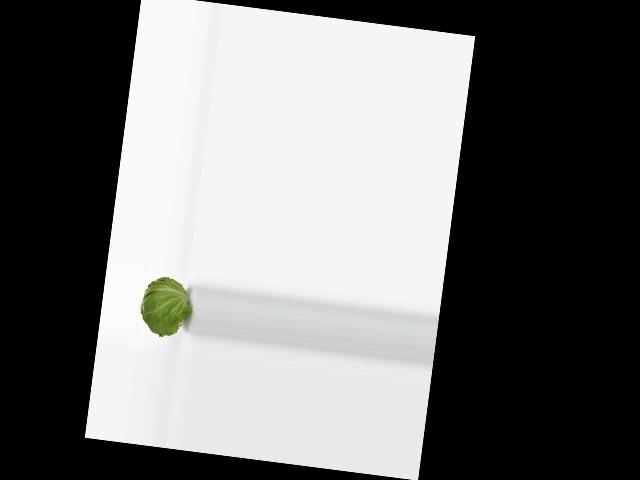lettuce: (136, 270, 189, 340)
